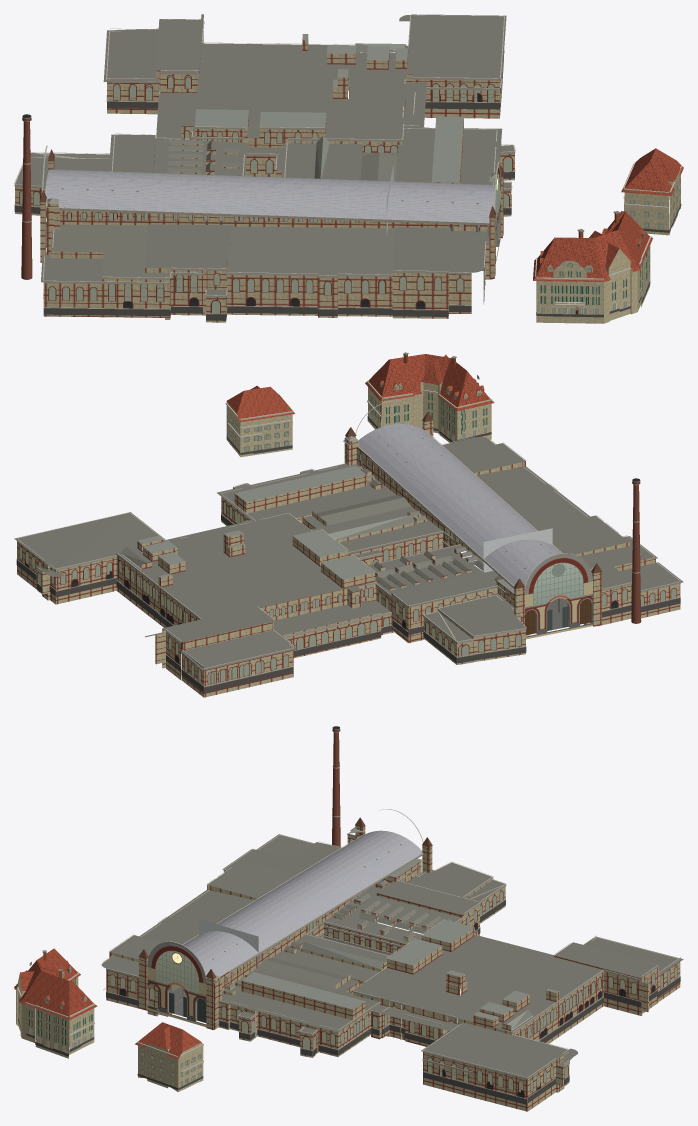
File: schlachthof.glb
The picture shows the model from 3 angles, top to bottom: view 1: azimuth 30°, elevation 25°; view 2: azimuth 150°, elevation 25°; view 3: azimuth 270°, elevation 25°; orthographic projection. The views are drawn at different scales.
Visible parts, largest first — view 1: schlachthof; view 2: schlachthof; view 3: schlachthof.
Boxes of the visible parts, bbox=[...] form: schlachthof: bbox=[14, 14, 683, 323]; schlachthof: bbox=[14, 352, 683, 697]; schlachthof: bbox=[14, 726, 683, 1111].
Size of the model in its own units: 198 by 53.67 by 222.
9 materials, 8 textured.
